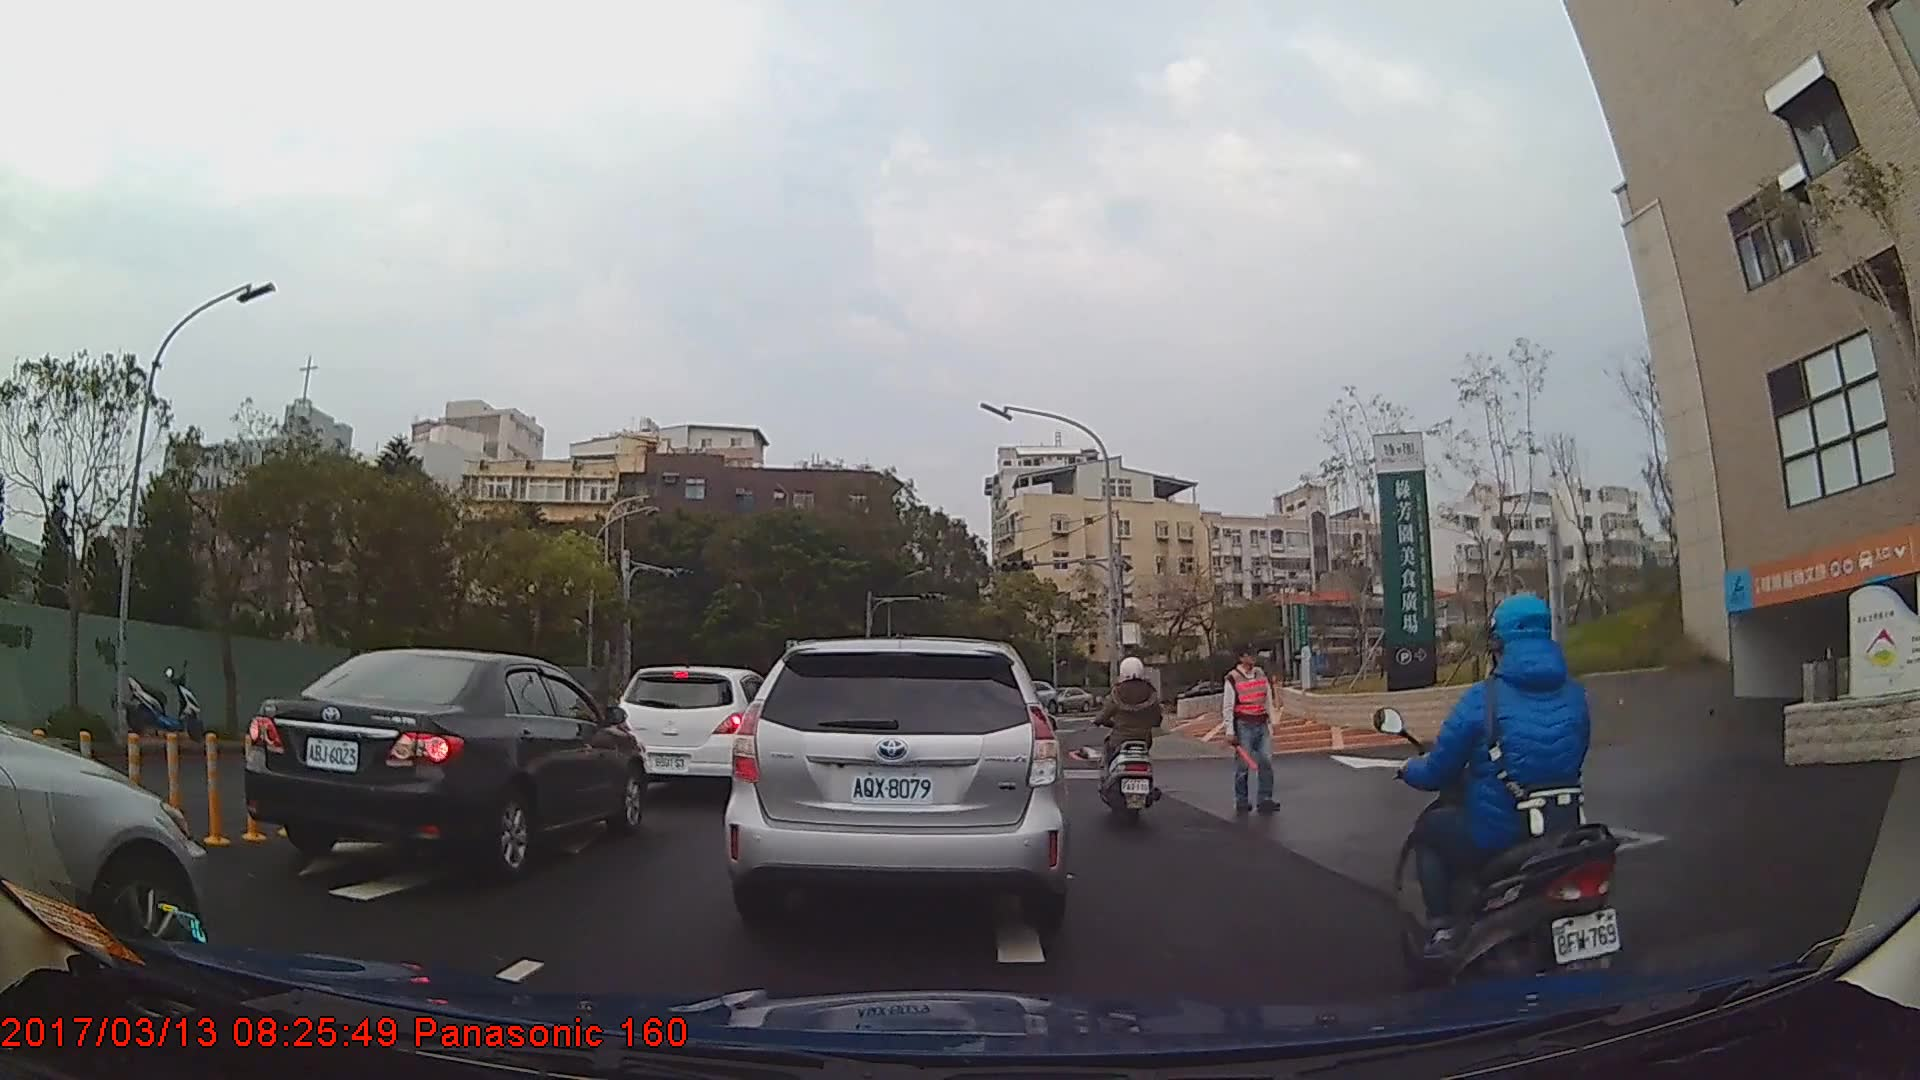pedestrian: (1218, 639, 1280, 812)
rider: (1384, 592, 1624, 1014), (1100, 659, 1170, 831)
vehicle: (724, 634, 1072, 930), (244, 646, 648, 878), (611, 665, 778, 801), (1055, 685, 1095, 714)
